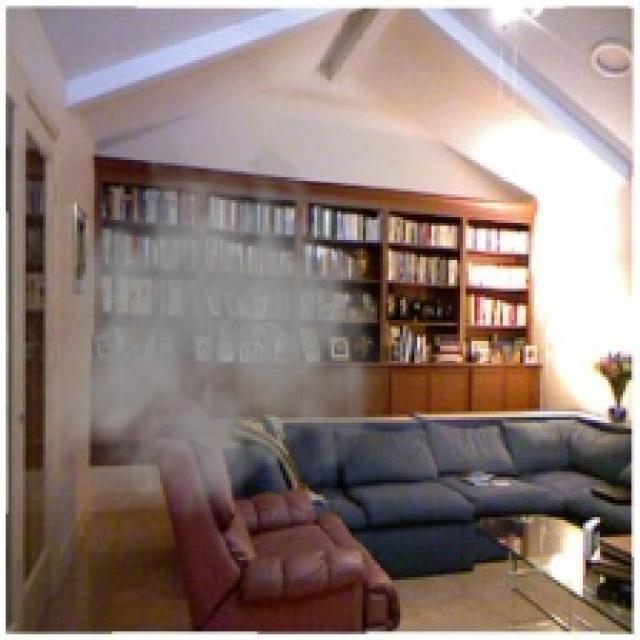Smoke: (46, 140, 406, 529)
